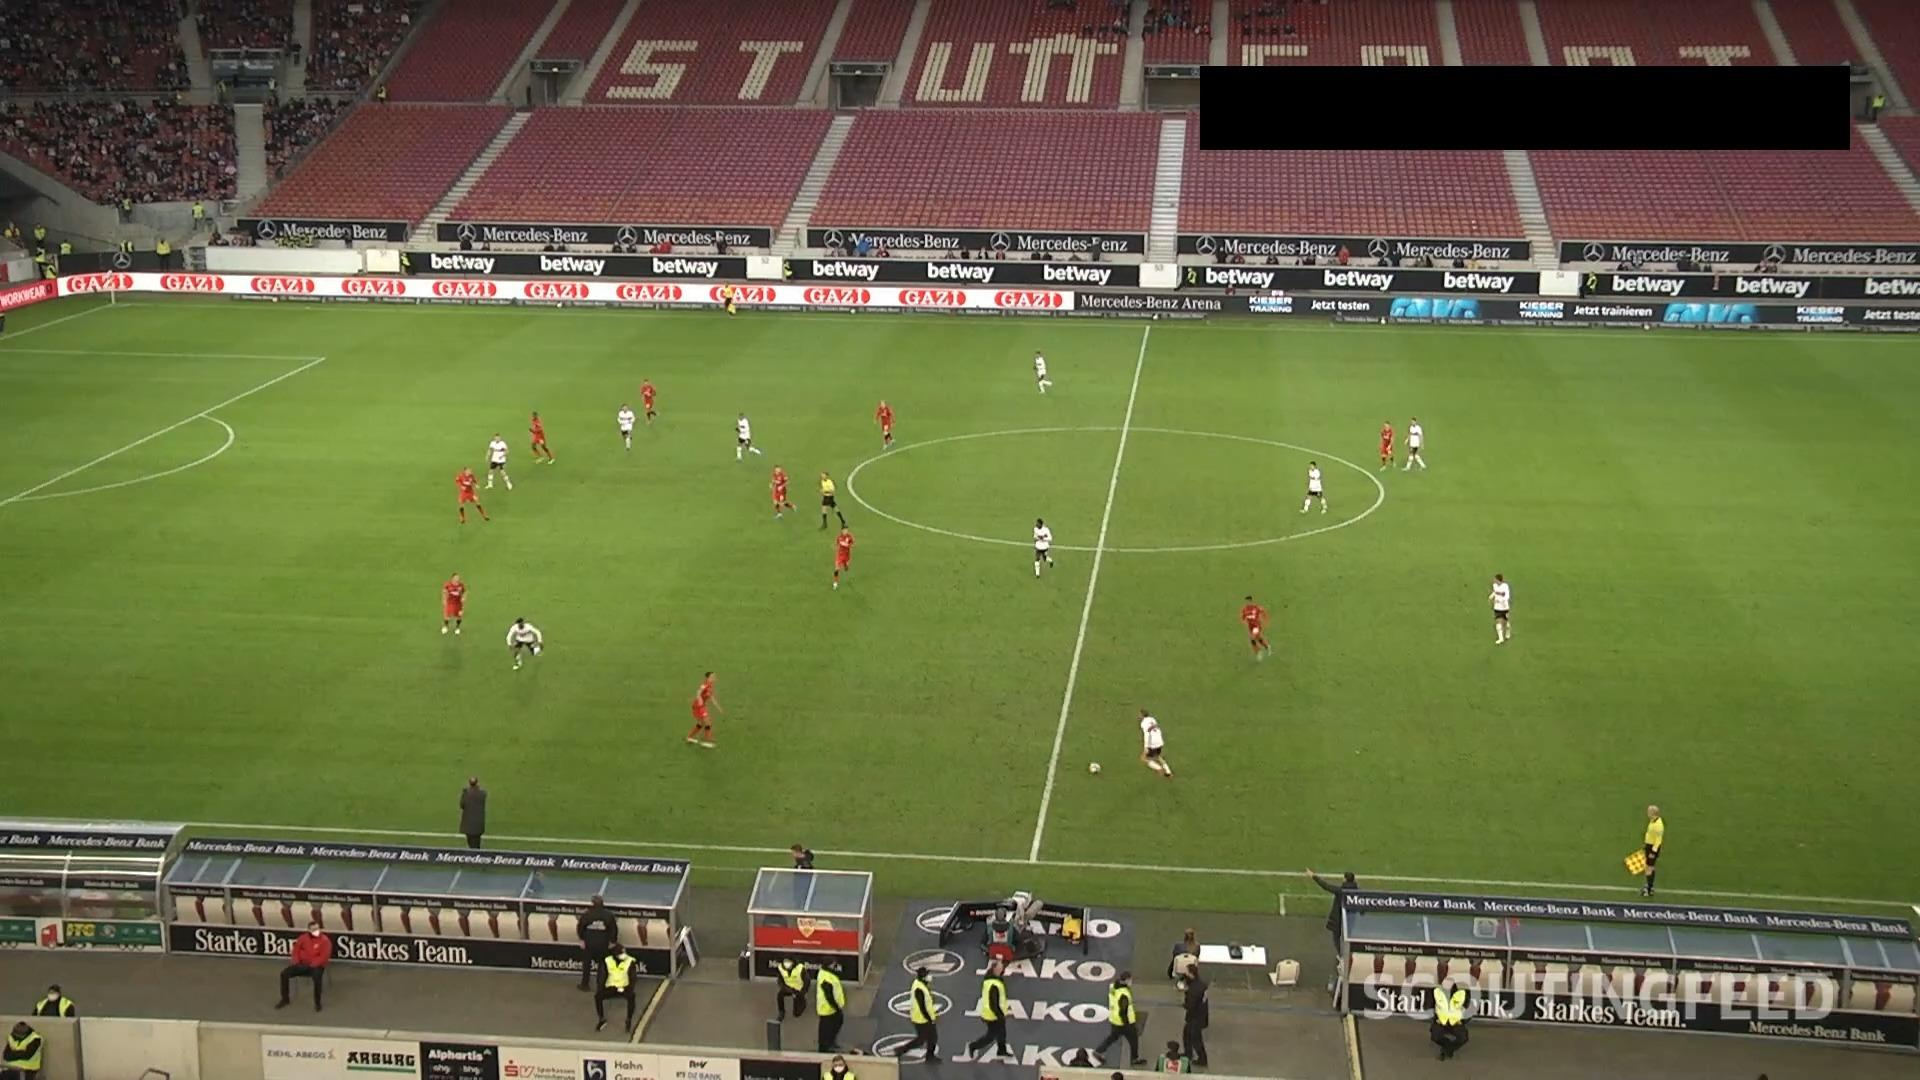ball: (1088, 761, 1102, 775)
